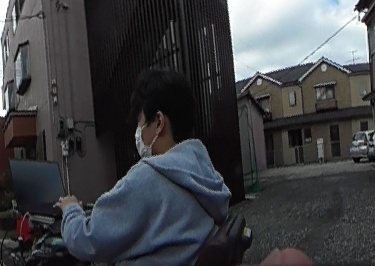person: (60, 62, 242, 266)
